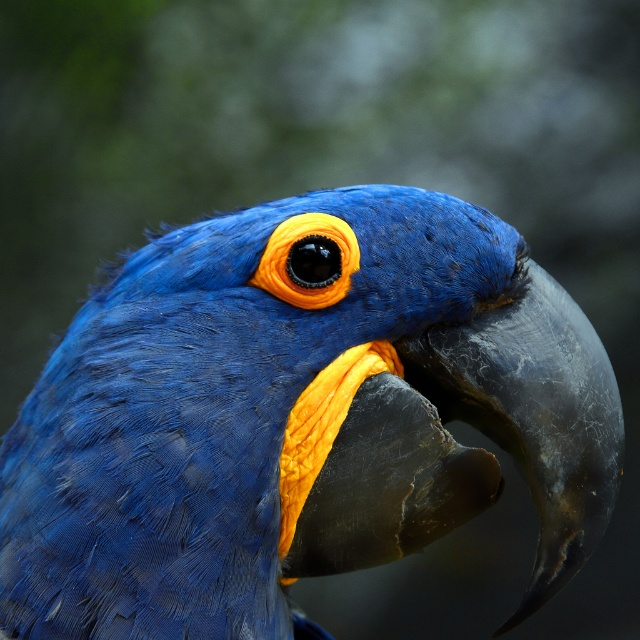Parrot: (0, 181, 628, 639)
